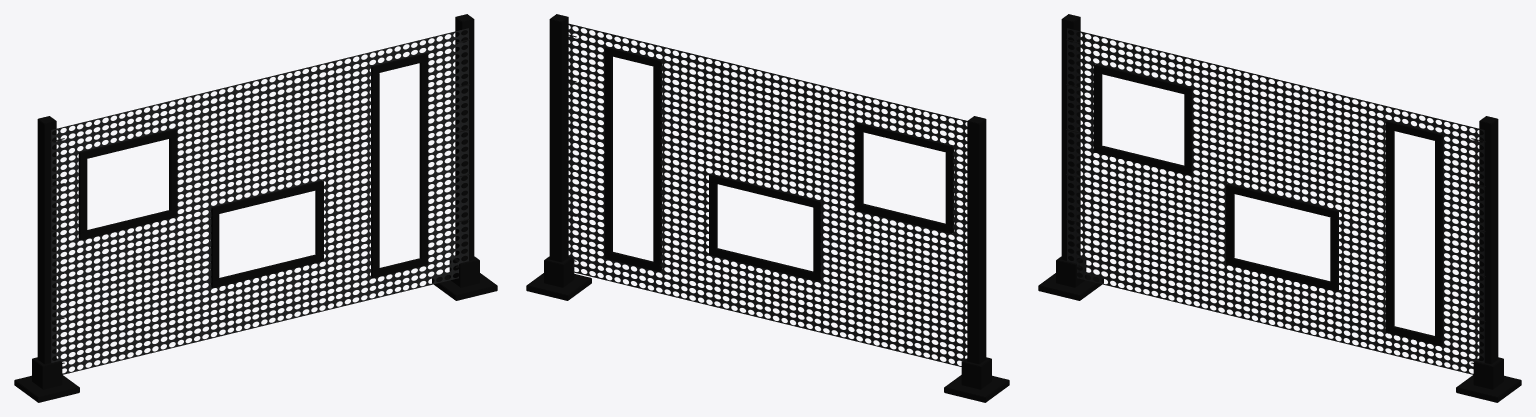
The model's file is obj_mesh_wall_black_openings.glb.
The picture shows the model from 3 angles, left to right: view 1: azimuth 30°, elevation 25°; view 2: azimuth 150°, elevation 25°; view 3: azimuth 330°, elevation 25°; orthographic projection.
Parts seen in each view (by area): view 1: mesh, mesh_wall_black_openings_body; view 2: mesh, mesh_wall_black_openings_body; view 3: mesh, mesh_wall_black_openings_body.
Part boxes in pixels (x1=…): mesh: x1=51, y1=28, x2=468, y2=374; mesh_wall_black_openings_body: x1=14, y1=14, x2=497, y2=402; mesh: x1=568, y1=23, x2=967, y2=366; mesh_wall_black_openings_body: x1=526, y1=14, x2=1009, y2=402; mesh: x1=1067, y1=28, x2=1484, y2=374; mesh_wall_black_openings_body: x1=1038, y1=14, x2=1521, y2=402.
Size of the model in its own units: 3.3 by 1.85 by 0.3.
3 materials, 2 textured.
